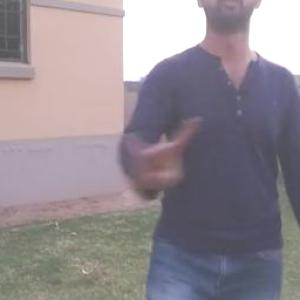takeoff-hand: (123, 104, 193, 191)
